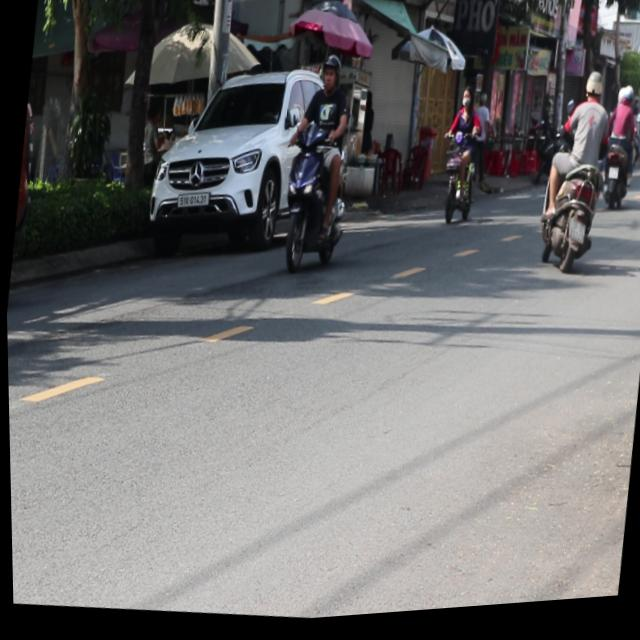helmet: (316, 55, 341, 98), (580, 76, 602, 109)
licenseplate: (271, 50, 364, 281), (528, 70, 615, 283)
nohelmet: (565, 225, 584, 250)
